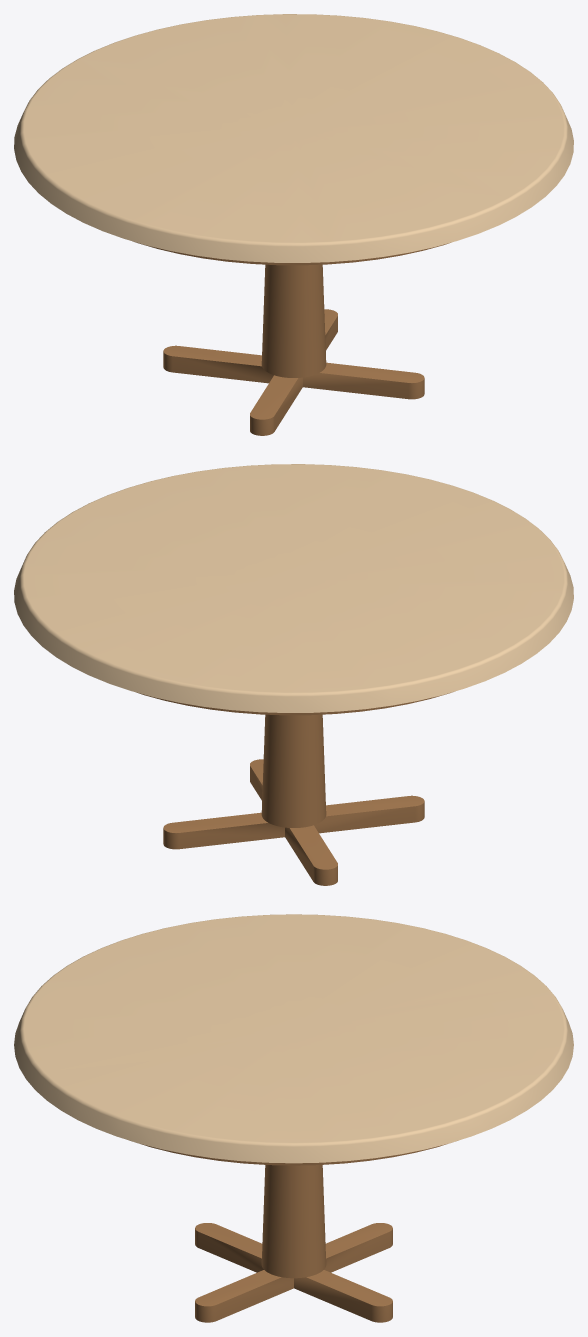
Rendered from table.glb.
3 renders of one model, top to bottom at view 1: azimuth 30°, elevation 25°; view 2: azimuth 150°, elevation 25°; view 3: azimuth 270°, elevation 25°, orthographic.
Visible parts, largest first — view 1: top, foot, pedestal, apron; view 2: top, foot, pedestal, apron; view 3: top, foot, pedestal, apron.
Part boxes in pixels (box(x1,y1,x2,y2)): top: box(14, 14, 573, 262); foot: box(163, 309, 424, 435); pedestal: box(261, 264, 326, 377); apron: box(135, 242, 450, 265); top: box(14, 464, 573, 712); foot: box(163, 759, 424, 885); pedestal: box(261, 714, 326, 827); apron: box(137, 692, 452, 715); top: box(14, 914, 573, 1163); foot: box(195, 1223, 392, 1322); pedestal: box(261, 1165, 326, 1278); apron: box(141, 1144, 446, 1165).
Bounding box in the file's own units: 1.56 × 0.775 × 1.56.
